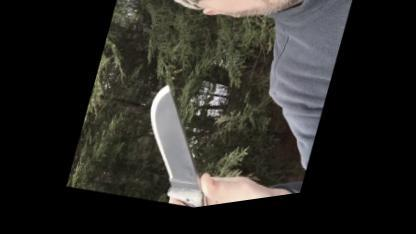knife: (116, 68, 263, 220)
